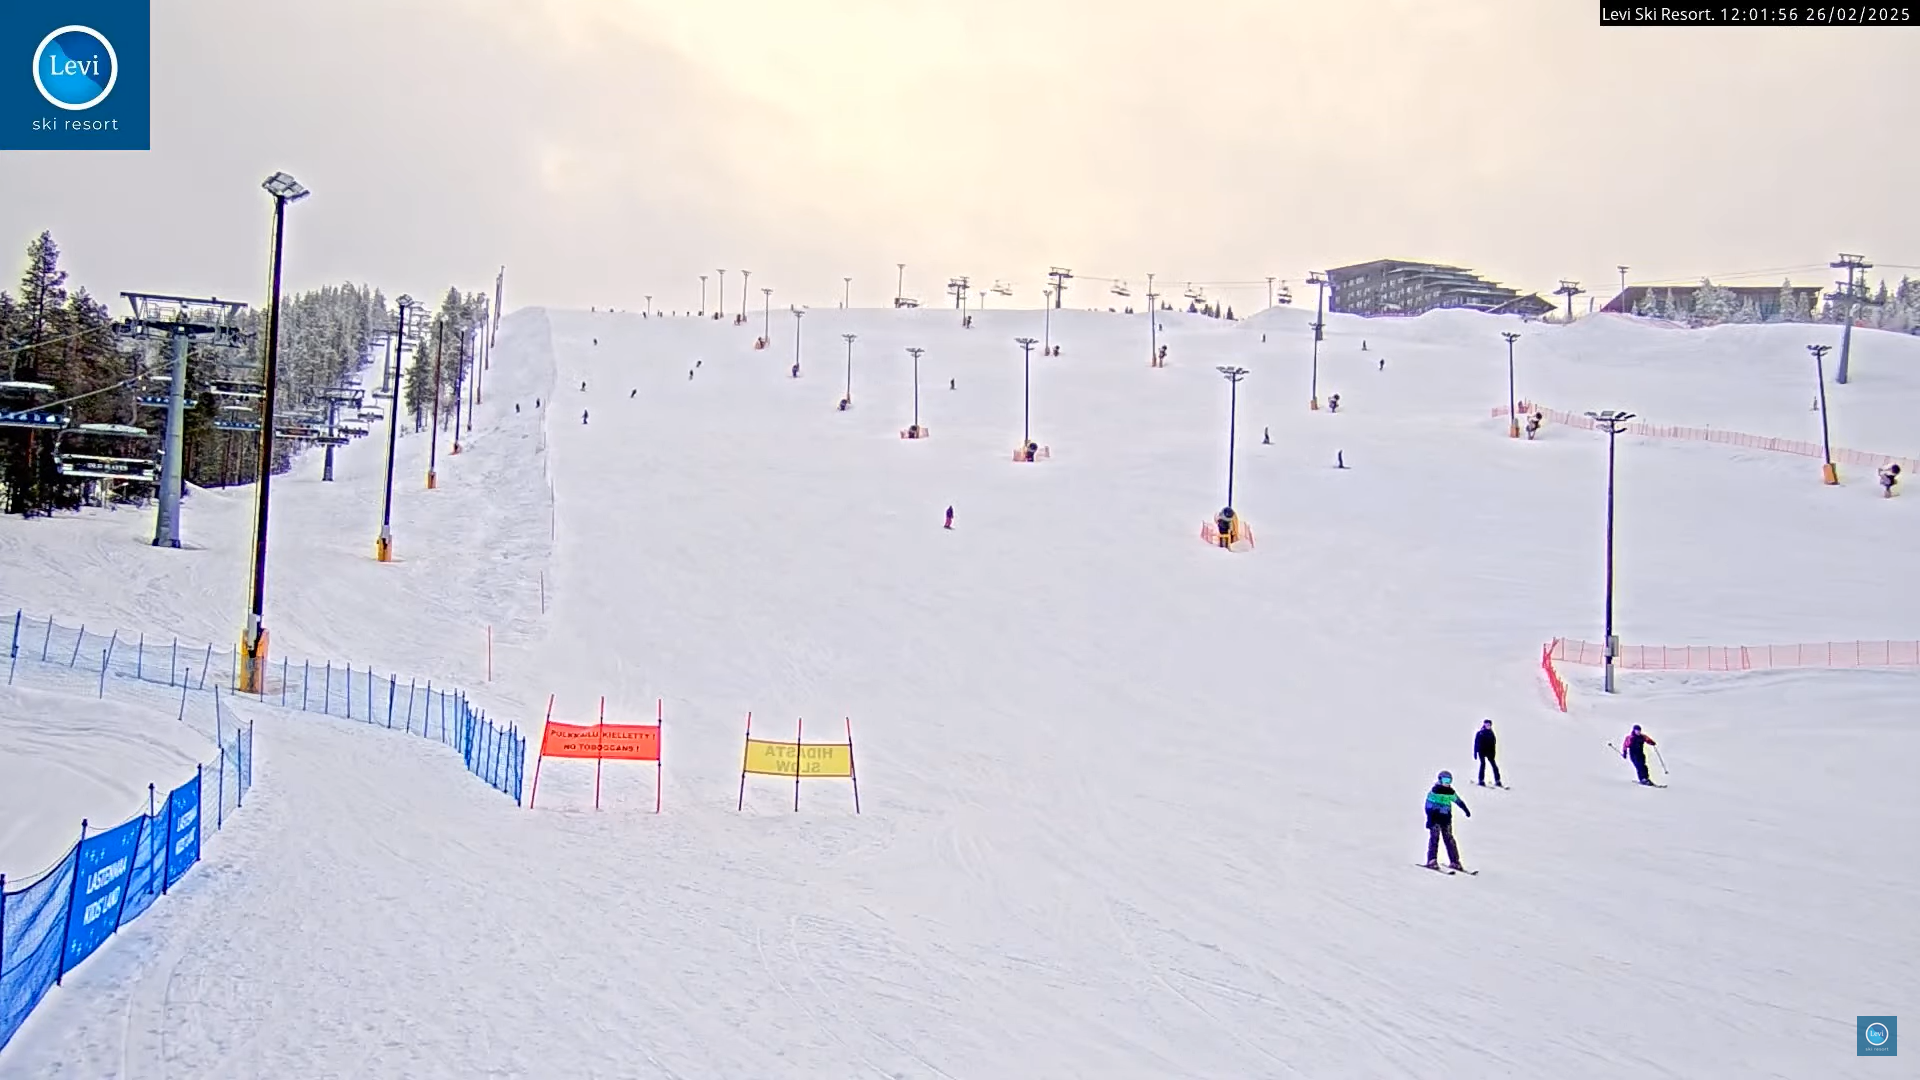skier: (1416, 765, 1486, 889), (1601, 716, 1684, 804), (1462, 716, 1520, 798)
